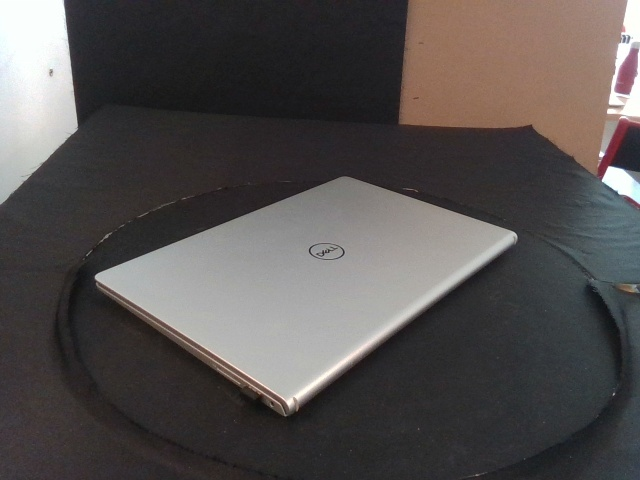laptop: (93, 176, 519, 418)
